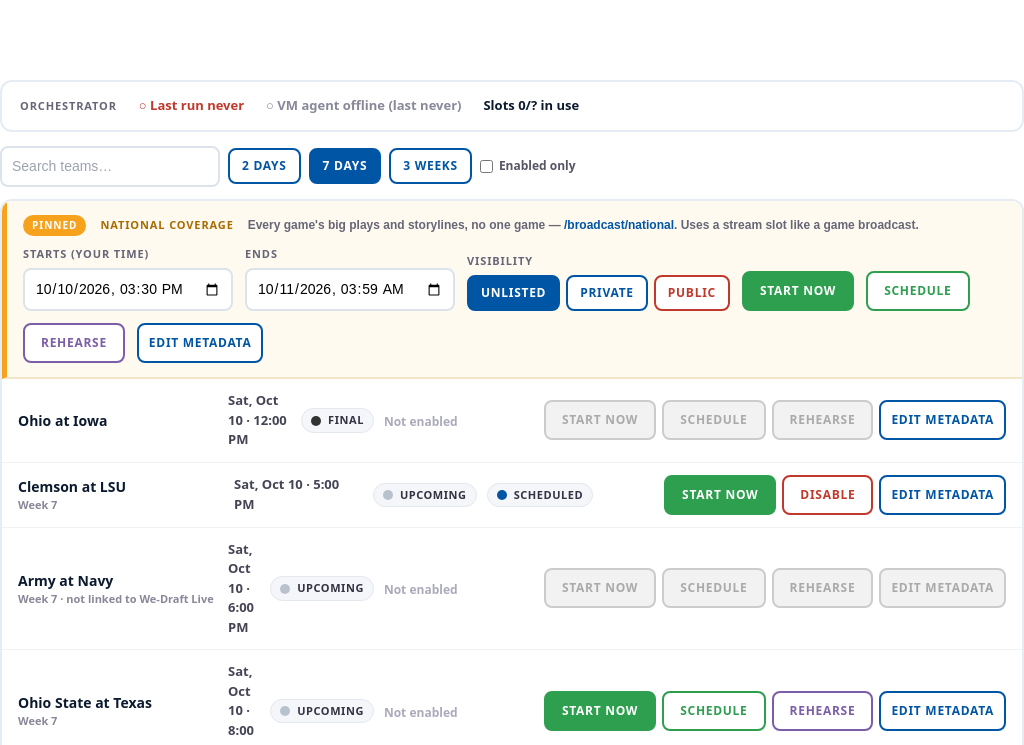
Test: AutoSchedule › Disable on a scheduled game cancels without confirmEnd
Check: the text "Scheduled" is shown, box [487,483,593,507]
Click the button "Disable" at coordinates (828, 494), box [782,474,873,514]
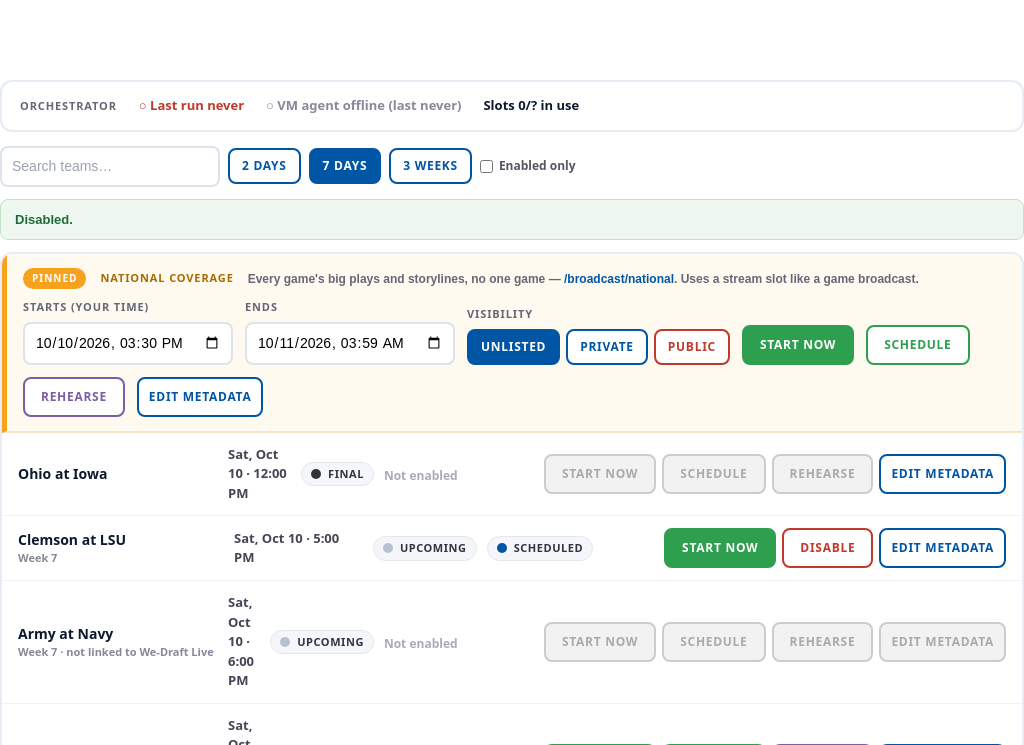
Check: the text "Disabled." is shown, box [0,198,1023,240]
